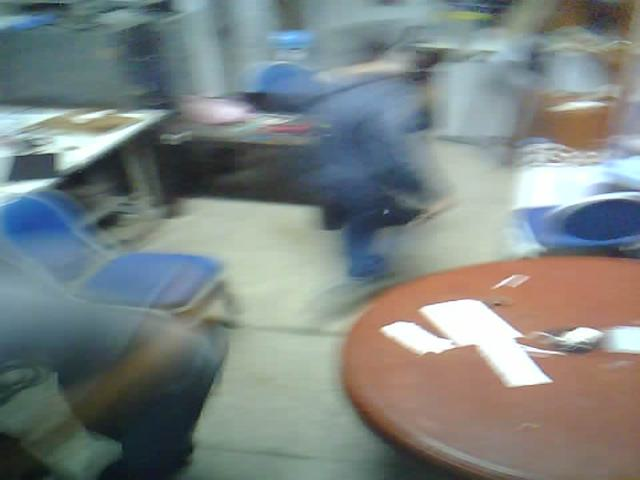person: (297, 15, 502, 310)
